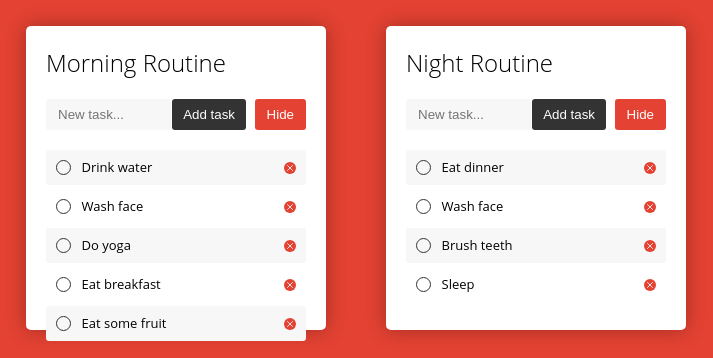
Test: Delete a task › Deletes task from list
The width and height of the screenshot is (713, 358).
Click the button without text next to "Eat some fruit": (290, 324) [284,318,296,330]
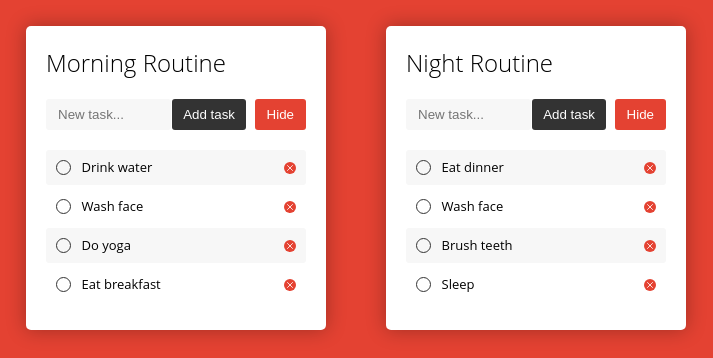
Now the text "Eat some fruit" is gone
